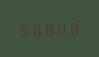eight: (30, 21, 41, 37), (42, 20, 53, 36), (66, 19, 77, 35)
five: (18, 21, 29, 38)
zero: (54, 19, 65, 36)
